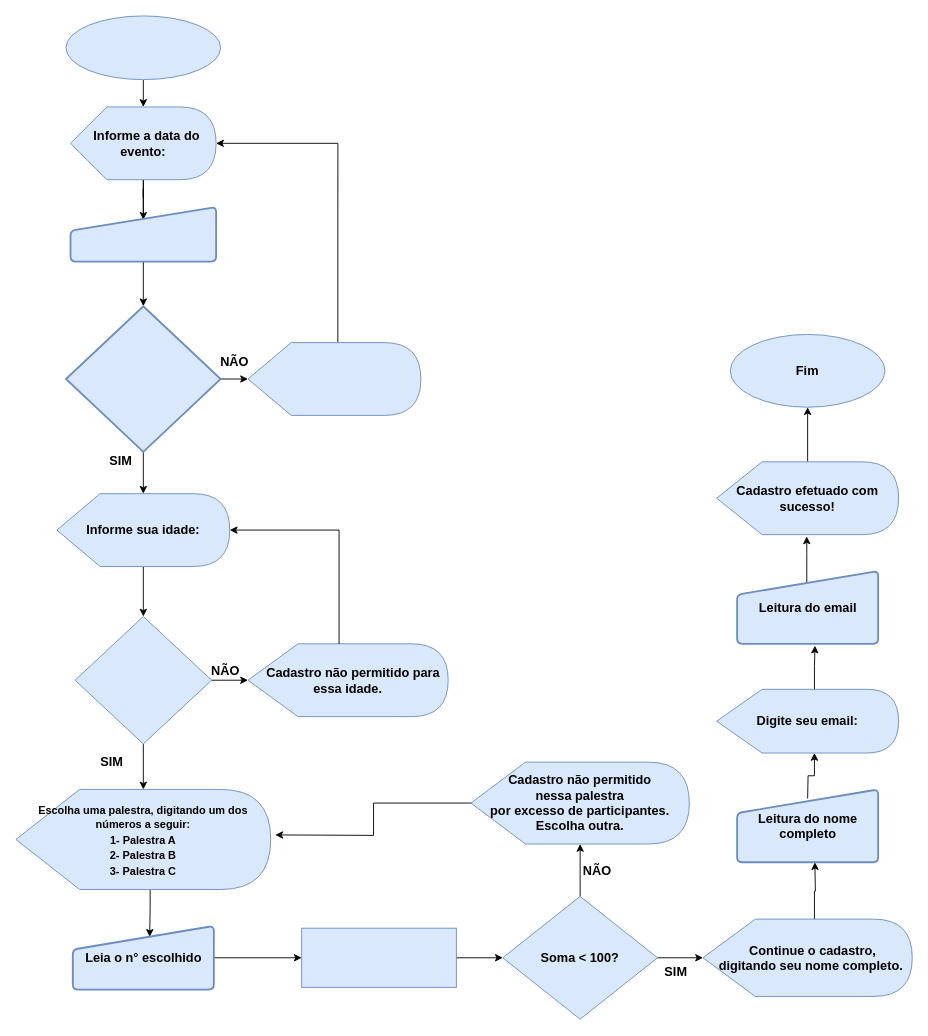
Image size: 928x1036. Some labels were removed from this diagram. Each missing label, with the box of its shape:
A data do evento é posterior à data atual?: (65, 305, 221, 452)
Cadastro não permitido, pois a data é inválida.: (247, 342, 421, 415)
Idade >= 18?: (74, 616, 212, 744)
Início: (65, 15, 221, 80)
Ler a data: (69, 206, 217, 262)
Soma (participantes já inscritos no n° escolhido + 1): (301, 927, 456, 987)
